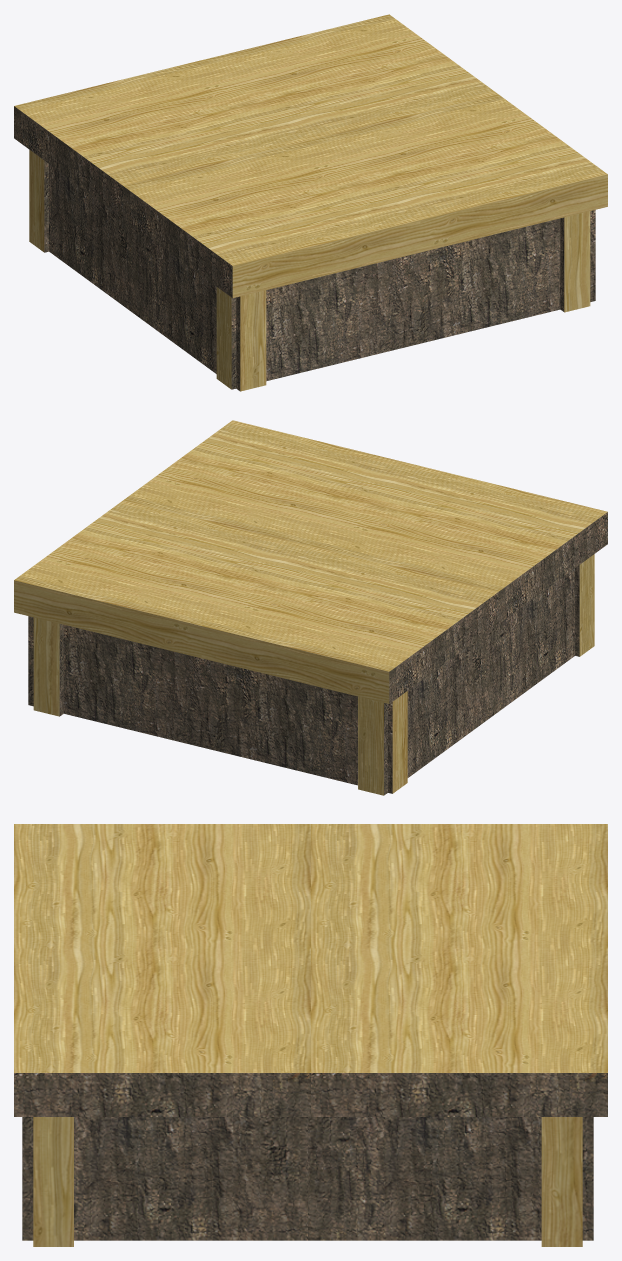
Rendered from construction_wood_foundation_square_mesh_lod2.fbx.
3 views of the same model, one above another, from view 1: azimuth 30°, elevation 25°; view 2: azimuth 150°, elevation 25°; view 3: azimuth 270°, elevation 25° (orthographic). The views are drawn at different scales.
Visible parts, largest first — view 1: construction_wood_foundation_square_mesh; view 2: construction_wood_foundation_square_mesh; view 3: construction_wood_foundation_square_mesh.
Part boxes in pixels (x1,y1,x2,y2): construction_wood_foundation_square_mesh: (14,14,607,391); construction_wood_foundation_square_mesh: (14,420,607,795); construction_wood_foundation_square_mesh: (14,824,607,1246).
Bounding box in the file's own units: 297 × 98.76 × 300.
